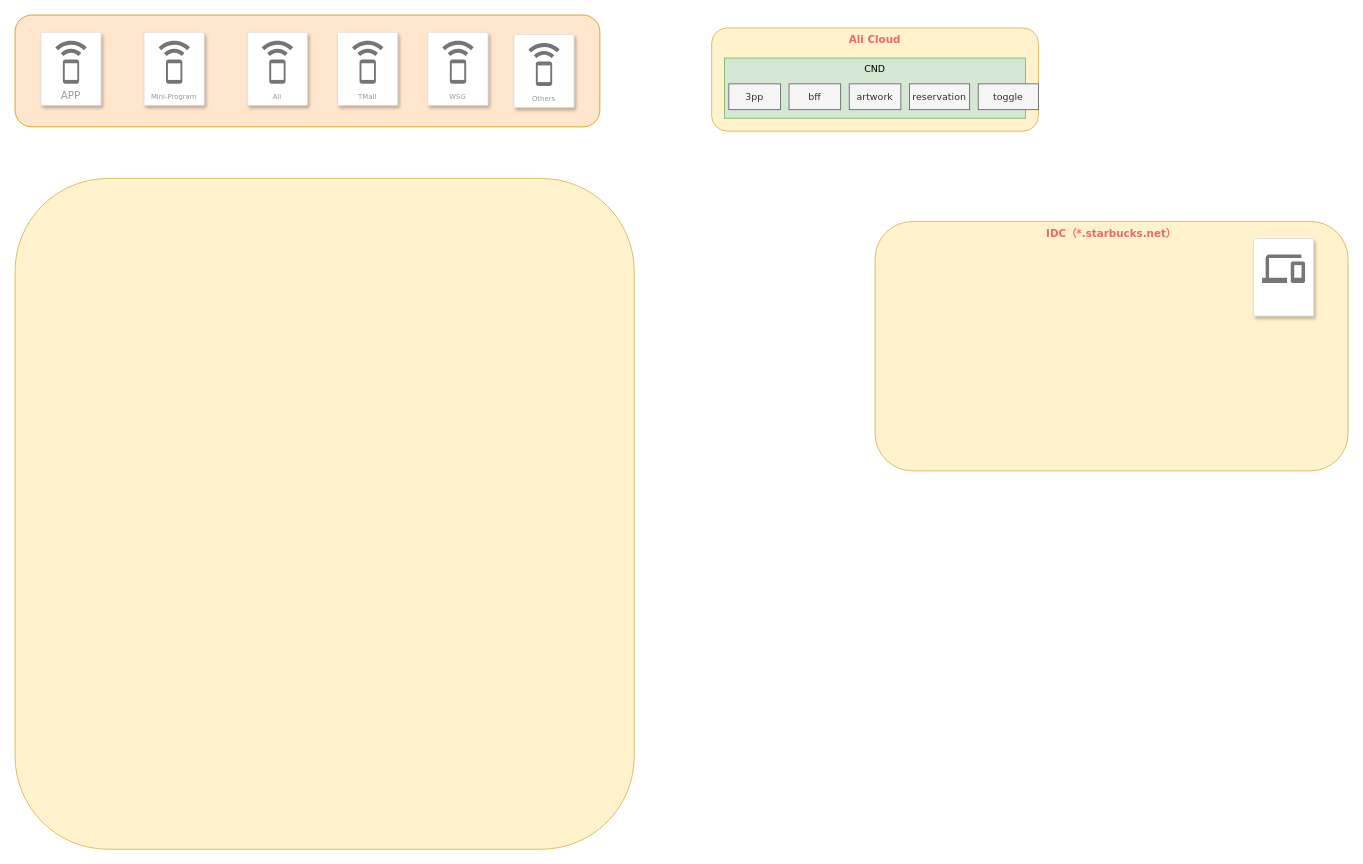
Image size: 1363x864. Some labels were removed from this diagram. Here are the shapes that lost their labels. From the top down, the centre of each, then its label:
point (1284, 278): POS
point (324, 513): NEW CFDC（*.sbuxcf.net）
